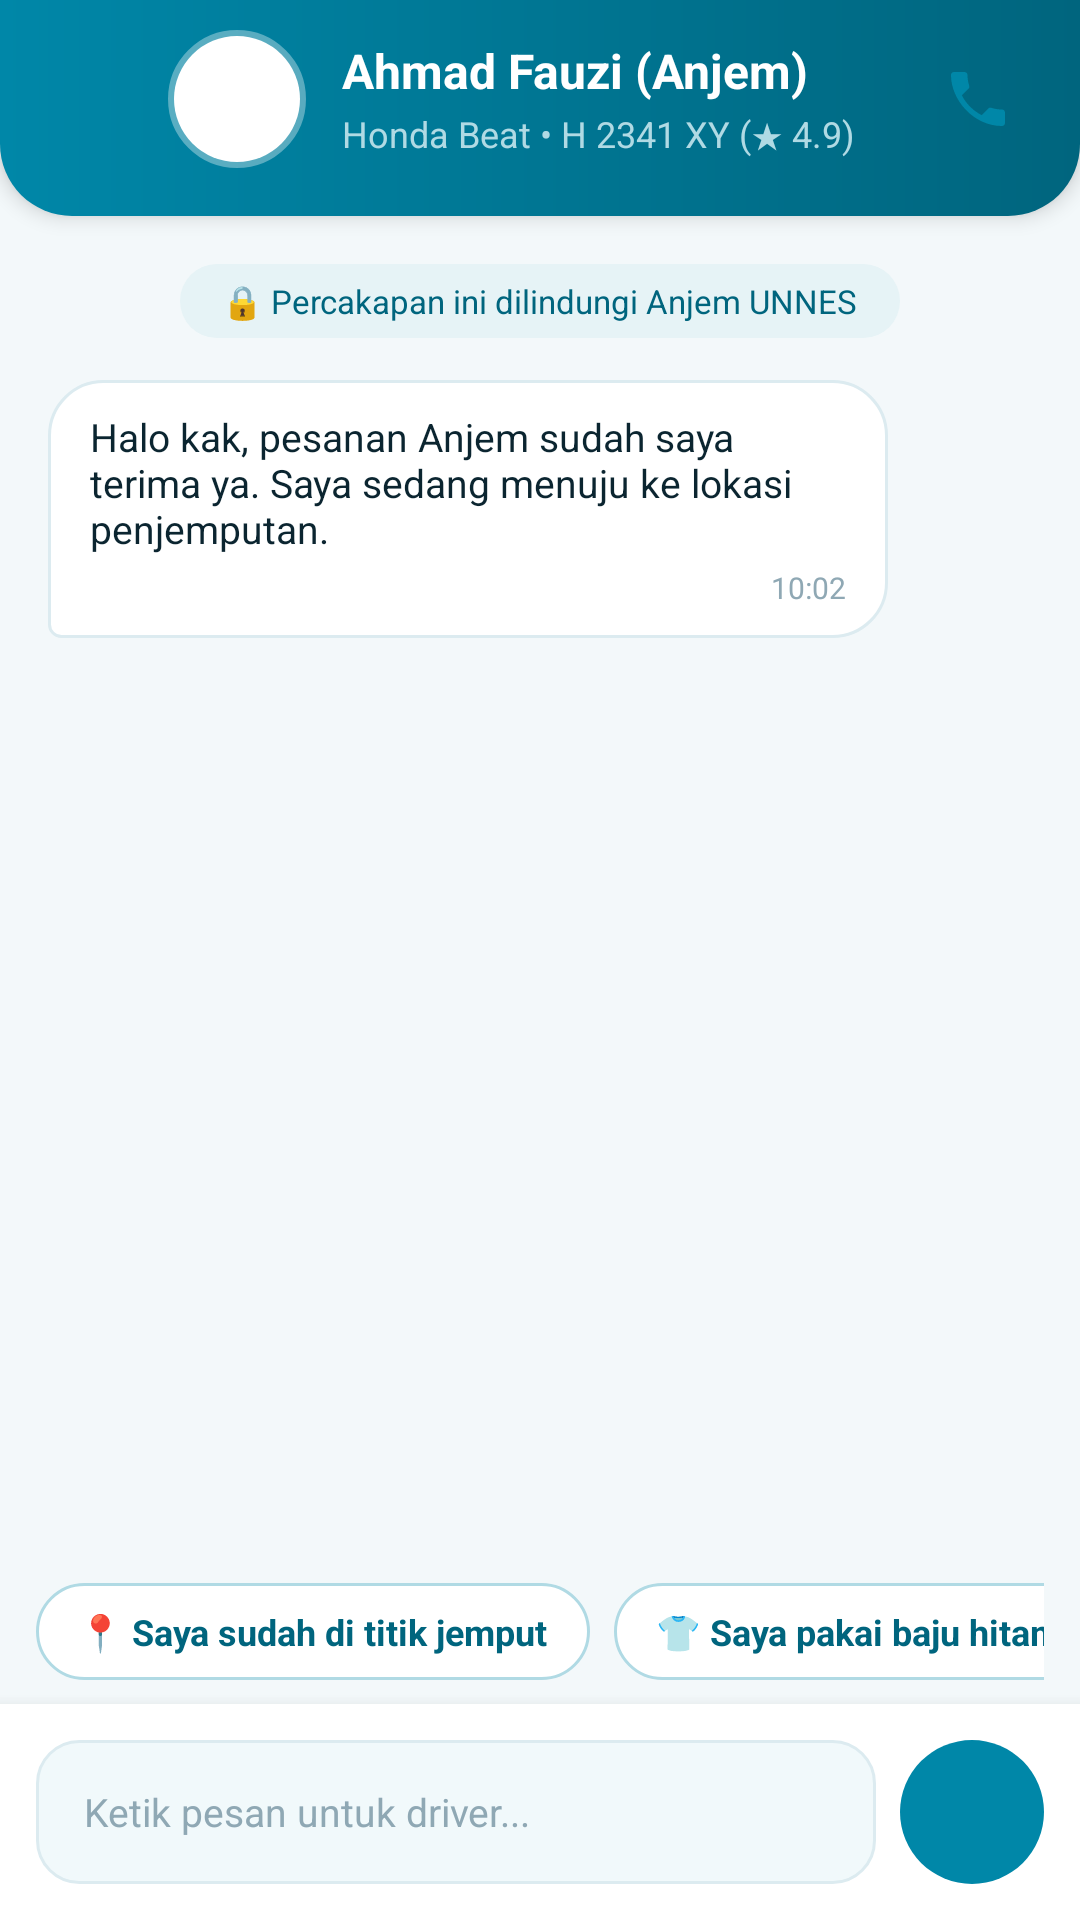

Icons on this 1080x1920 Android screen, each with its box as box=[x1, y1, x2, y2]:
Telepon driver: box=[951, 72, 1005, 126]
